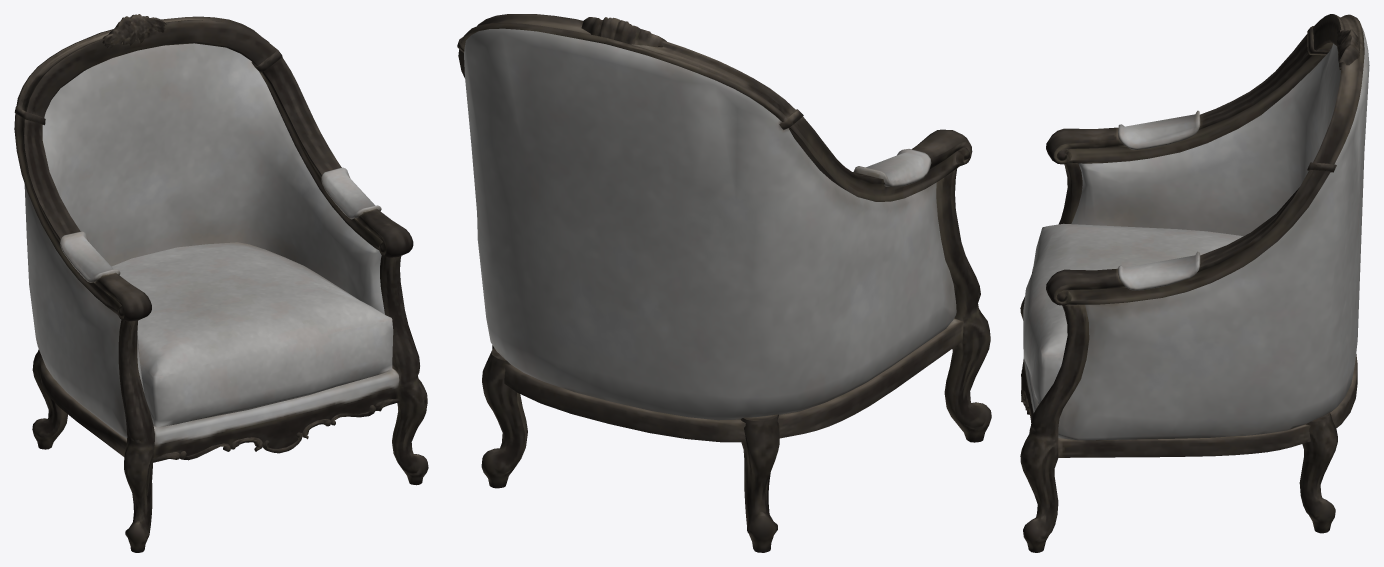
Rendered from ArmChair_01.glb.
3 renders of one model, left to right at view 1: azimuth 30°, elevation 25°; view 2: azimuth 150°, elevation 25°; view 3: azimuth 270°, elevation 25°, orthographic. The views are drawn at different scales.
Visible parts, largest first — view 1: ArmChair_01; view 2: ArmChair_01; view 3: ArmChair_01.
Boxes of the visible parts, <box> form: ArmChair_01: <box>14,14,428,552</box>; ArmChair_01: <box>457,14,991,552</box>; ArmChair_01: <box>1020,14,1369,552</box>.
Size of the model in its own units: 0.8484 by 1.06 by 0.7658.
Materials: 1 (1 with a texture image).
